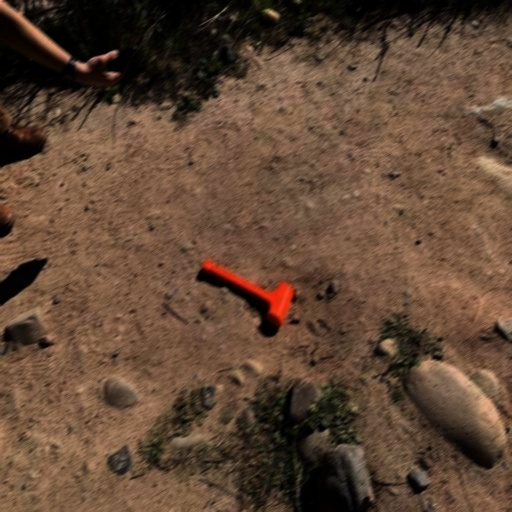mallet: (198, 256, 296, 330)
